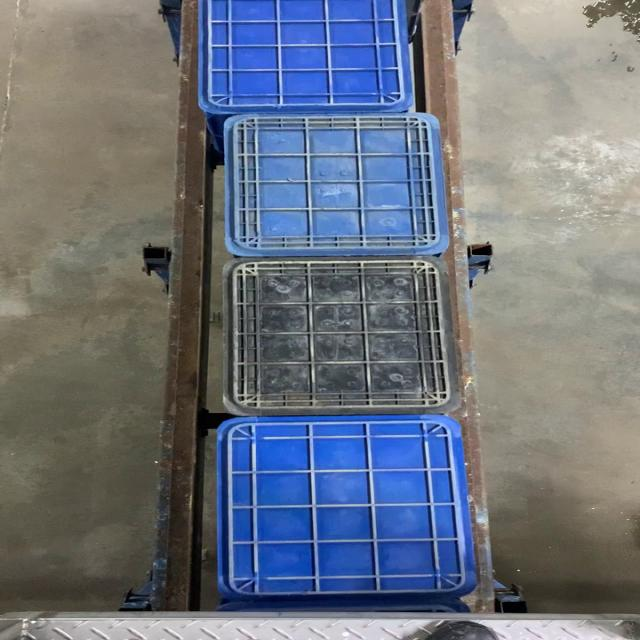Box: (210, 419, 482, 597), (223, 257, 463, 417), (223, 113, 453, 257)
